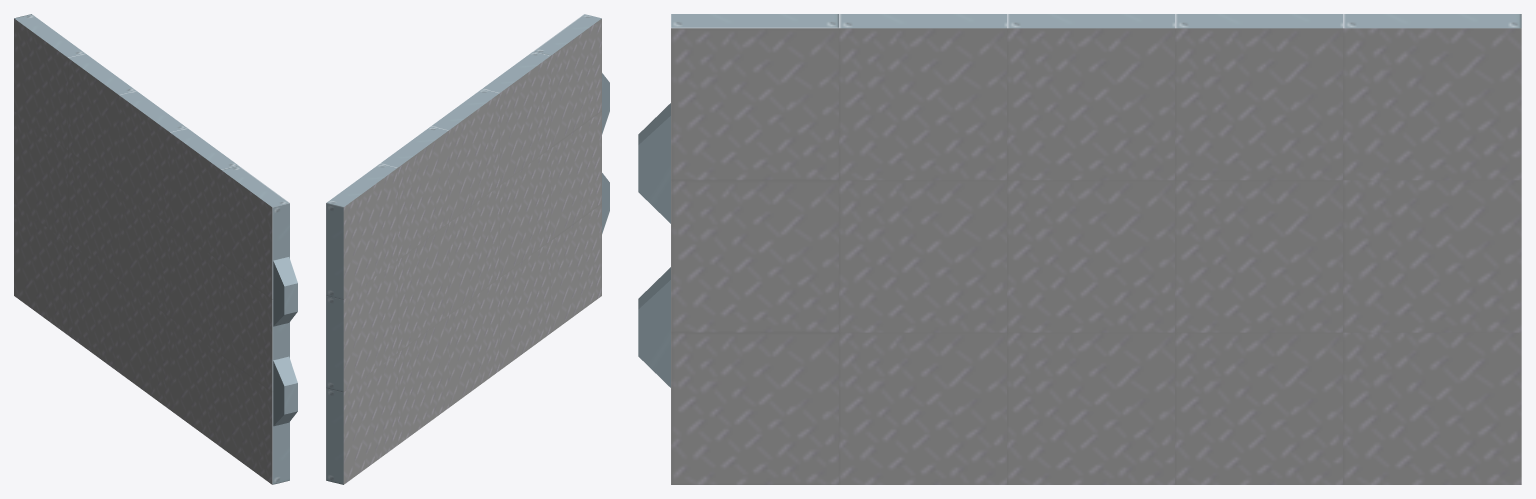
Rendered from level_zone01_door-bridge-opposite.fbx.
The picture shows the model from 3 angles, left to right: view 1: azimuth 30°, elevation 25°; view 2: azimuth 150°, elevation 25°; view 3: azimuth 270°, elevation 25°; orthographic projection. The views are drawn at different scales.
Parts seen in each view (by area): view 1: level_zone01_door-bridge-opposite; view 2: level_zone01_door-bridge-opposite; view 3: level_zone01_door-bridge-opposite.
Part boxes in pixels (left/top/right/bottom): level_zone01_door-bridge-opposite: left=14, top=14, right=297, bottom=484; level_zone01_door-bridge-opposite: left=326, top=14, right=609, bottom=484; level_zone01_door-bridge-opposite: left=638, top=14, right=1521, bottom=484.
Bounding box in the file's own units: 20 × 300 × 526.
